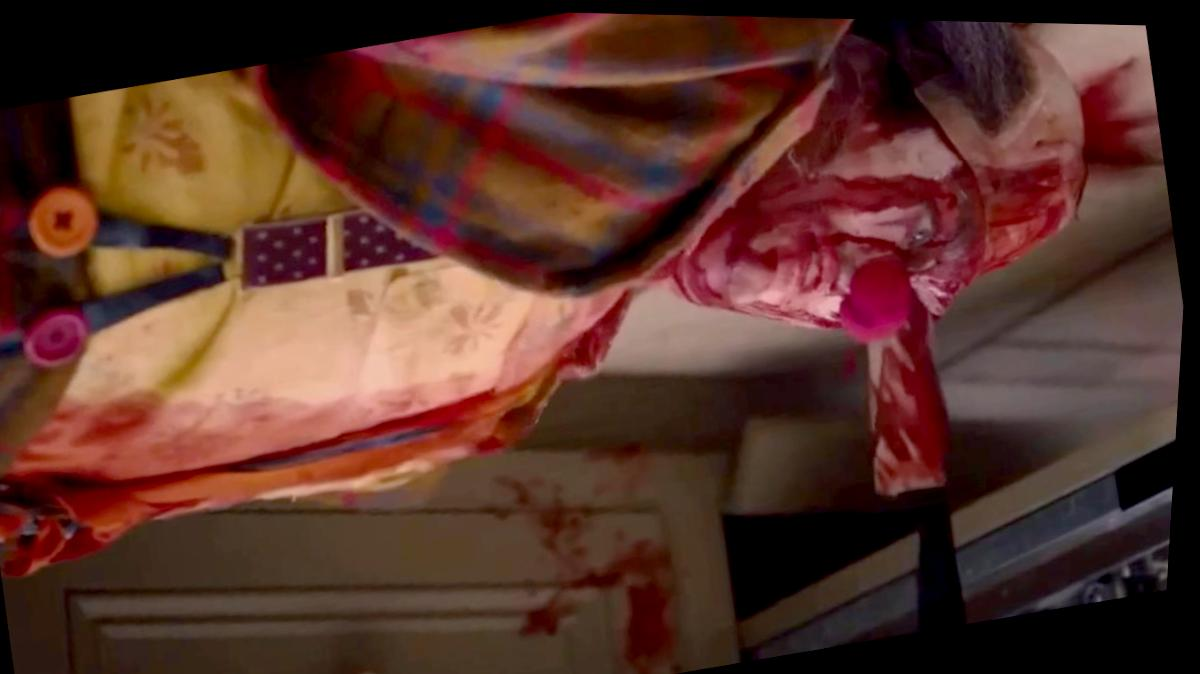Fire: (667, 31, 1167, 627), (447, 447, 748, 674)
